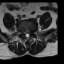CCS_normal: (26, 31, 28, 38)
LFS_severe_stenosis: (30, 30, 32, 35)
LLS_stenosis: (28, 31, 30, 37)
RFS_stenosis: (23, 30, 25, 35)
RLS_normal: (25, 31, 27, 37)
